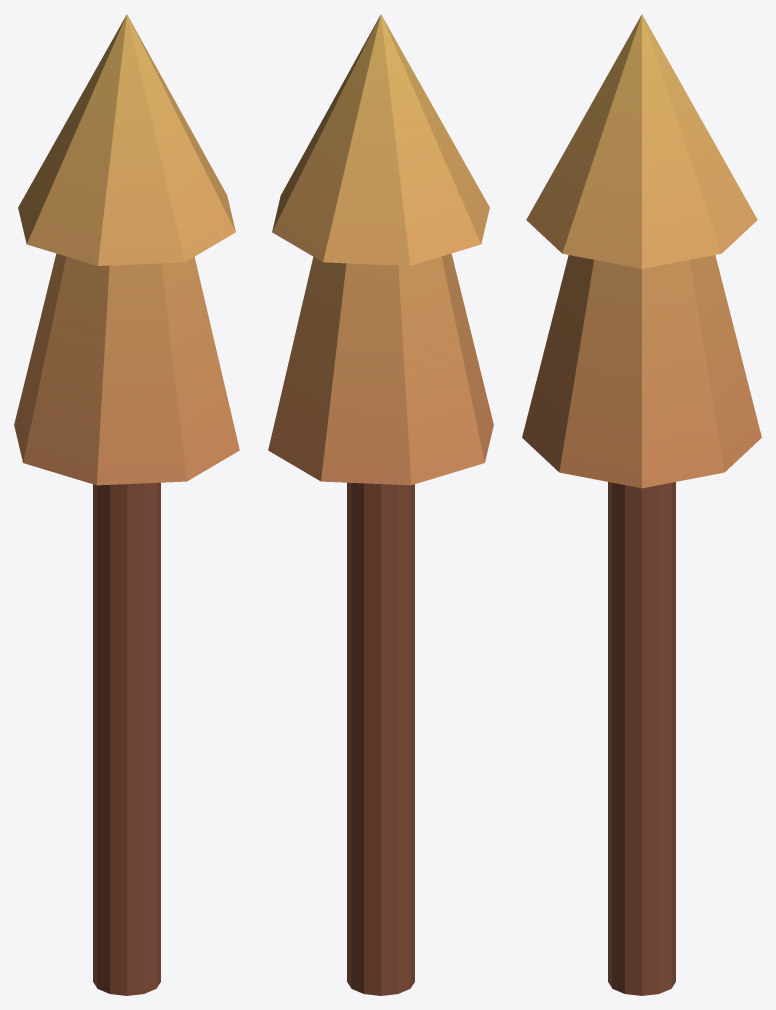
Rendered from Tree_21_gradient_yellow.fbx.
The picture shows the model from 3 angles, left to right: view 1: azimuth 30°, elevation 25°; view 2: azimuth 150°, elevation 25°; view 3: azimuth 270°, elevation 25°; orthographic projection.
Parts seen in each view (by area): view 1: Tree_21_gradient_yellow; view 2: Tree_21_gradient_yellow; view 3: Tree_21_gradient_yellow.
Boxes of the visible parts, x1,y1,x2,y2 form: Tree_21_gradient_yellow: (14, 14, 239, 995); Tree_21_gradient_yellow: (268, 14, 493, 995); Tree_21_gradient_yellow: (522, 14, 761, 995).
Size of the model in its own units: 77.92 by 347 by 77.92.
